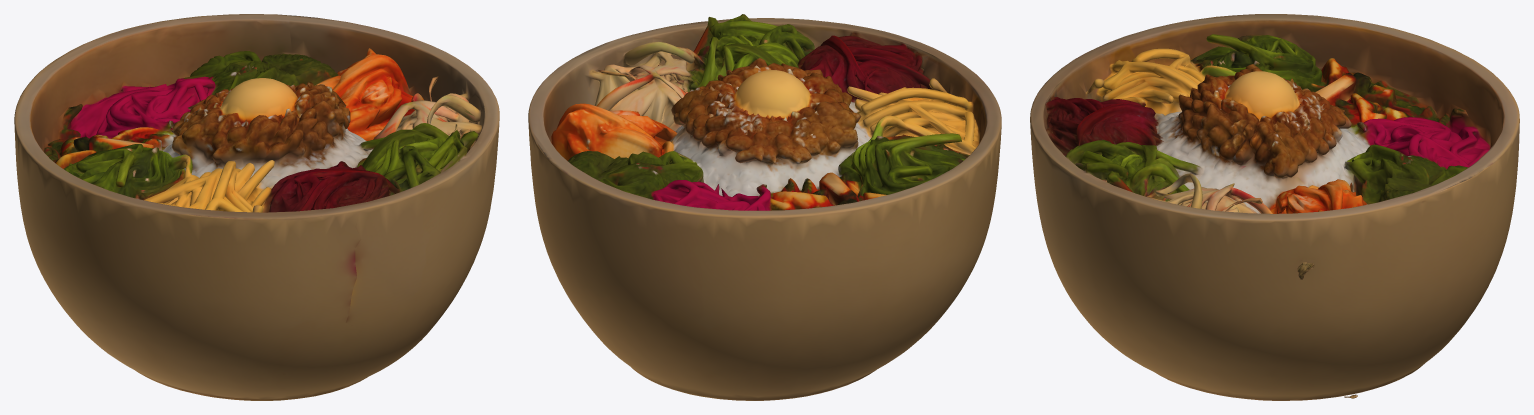
Rendered from bibimbap.glb.
The picture shows the model from 3 angles, left to right: view 1: azimuth 30°, elevation 25°; view 2: azimuth 150°, elevation 25°; view 3: azimuth 270°, elevation 25°; orthographic projection. The views are drawn at different scales.
Parts seen in each view (by area): view 1: material_0; view 2: material_0; view 3: material_0.
Part boxes in pixels (<box>): material_0: <box>14,14,499,400</box>; material_0: <box>528,14,1001,400</box>; material_0: <box>1030,14,1519,400</box>.
Size of the model in its own units: 0.158 by 0.0953 by 0.1572.
1 material, 1 textured.
